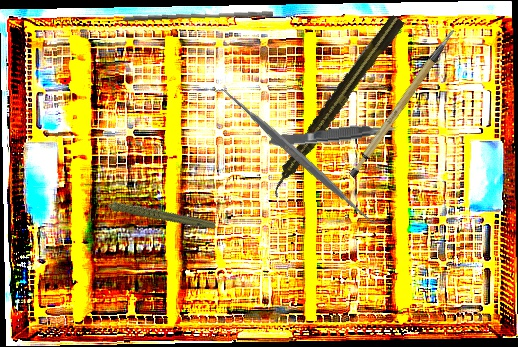Handpiece: (263, 12, 407, 200), (90, 170, 218, 254)
Pusher: (122, 5, 274, 28)
Scalpel Handle: (331, 28, 477, 181)
Spatula Surgical: (212, 76, 387, 238)
Tissue Forceps: (323, 10, 409, 116), (268, 121, 399, 149)
